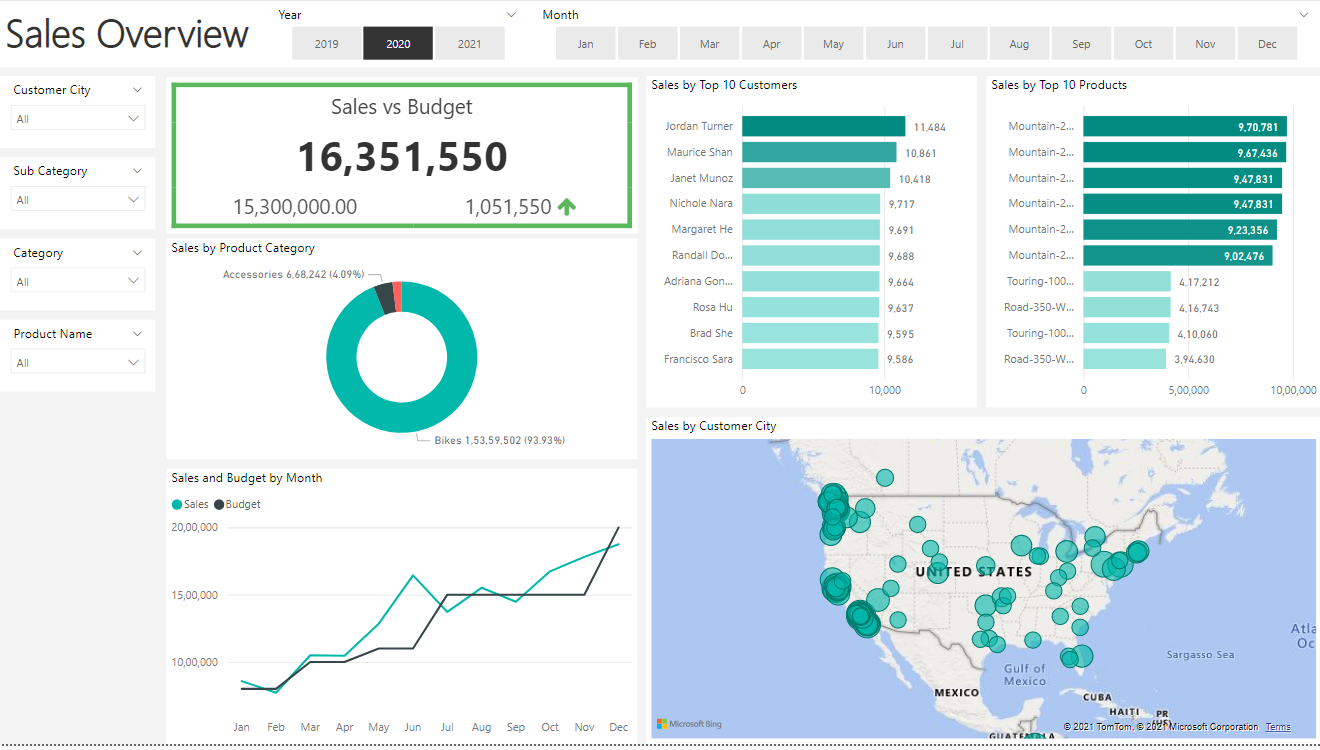

The page's visual inventory and layout, read from the dashboard file:
{"tool":"powerbi","page":{"name":"Sales Overview","canvas":[1280,720],"ordinal":0},"visuals":[{"type":"textbox","box":[0,0,1280,64],"z":0},{"type":"slicer","fields":{"Values":["DIM_Calendar.Year"]},"box":[256,0,256,64],"z":1000},{"type":"slicer","fields":{"Values":["DIM_Calendar.MonthShort"]},"box":[512,0,768,64],"z":2000},{"type":"slicer","fields":{"Values":["DIM_Customers.Customer City"]},"box":[0,73,150.5,69.3],"z":3000},{"type":"slicer","fields":{"Values":["DIM_Products.Product Category"]},"box":[0,229.9,150.5,69.3],"z":4000},{"type":"slicer","fields":{"Values":["DIM_Products.Product Name"]},"box":[0,308.4,150.5,69.3],"z":5000},{"type":"slicer","fields":{"Values":["DIM_Products.Sub Category"]},"box":[0,151.4,150.5,69.3],"z":6000},{"type":"barChart","title":"Sales by Top 10 Products","fields":{"Category":["DIM_Products.Product Name"],"Y":["Analysis Metrics.Sales"]},"box":[955.2,73,324.8,321.1],"z":7000},{"type":"lineChart","fields":{"Category":["DIM_Calendar.MonthShort"],"Y":["Analysis Metrics.Sales","Analysis Metrics.Budget"]},"box":[160.7,452.8,456.3,267.2],"z":8000},{"type":"barChart","title":"Sales by Top 10 Customers","fields":{"Category":["DIM_Customers.Full Name"],"Y":["Analysis Metrics.Sales"]},"box":[625.9,73,320.2,321.1],"z":9000},{"type":"donutChart","fields":{"Y":["Analysis Metrics.Sales"],"Series":["DIM_Products.Product Category"]},"box":[160.6,229.9,456.2,213.5],"z":10000},{"type":"map","fields":{"Category":["DIM_Customers.Customer City"],"Size":["Analysis Metrics.Sales"]},"box":[625.9,403.3,654.1,316.6],"z":12000},{"type":"BBED0A4D4D8D44CE93CF2DAFADEE466C","fields":{"actual":["Analysis Metrics.Sales"],"target2":["Analysis Metrics.Sales / Budget"],"target1":["Analysis Metrics.Budget"]},"box":[160.5,73.4,456.6,151.3],"z":13001}]}

Visuals, with their boxes in screenshot pixels (x1, y1, x2, y2), scaled from the page's 1280x720 canvas onto the 1320x750 screenshot:
textbox: <box>0,0,1319,67</box>
slicer - DIM_Calendar.Year: <box>264,0,528,67</box>
slicer - DIM_Calendar.MonthShort: <box>528,0,1319,67</box>
slicer - DIM_Customers.Customer City: <box>0,76,155,148</box>
slicer - DIM_Products.Product Category: <box>0,239,155,312</box>
slicer - DIM_Products.Product Name: <box>0,321,155,393</box>
slicer - DIM_Products.Sub Category: <box>0,158,155,230</box>
"Sales by Top 10 Products" barChart: <box>985,76,1319,411</box>
lineChart - DIM_Calendar.MonthShort x Analysis Metrics.Sales: <box>166,472,636,749</box>
"Sales by Top 10 Customers" barChart: <box>645,76,976,411</box>
donutChart - Analysis Metrics.Sales x DIM_Products.Product Category: <box>166,239,636,462</box>
map - DIM_Customers.Customer City x Analysis Metrics.Sales: <box>645,420,1319,749</box>
BBED0A4D4D8D44CE93CF2DAFADEE466C - Analysis Metrics.Sales x Analysis Metrics.Sales / Budget: <box>166,76,636,234</box>
